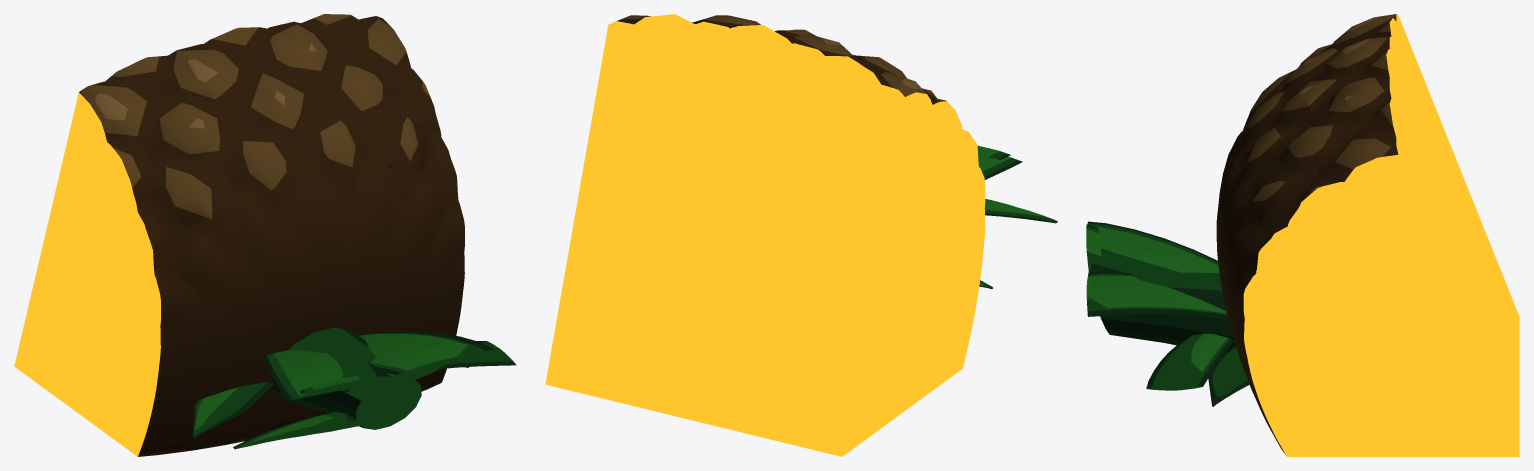
The model's file is pineapple_274.glb.
3 views of the same model, side by side, from view 1: azimuth 30°, elevation 25°; view 2: azimuth 150°, elevation 25°; view 3: azimuth 270°, elevation 25° (orthographic). The views are drawn at different scales.
Visible parts, largest first — view 1: pineapple_274; view 2: pineapple_274; view 3: pineapple_274.
Part boxes in pixels (x1,y1,x2,y2): pineapple_274: (14, 14, 516, 456); pineapple_274: (545, 14, 1057, 456); pineapple_274: (1086, 14, 1519, 456).
Size of the model in its own units: 24 by 26.67 by 31.52.
